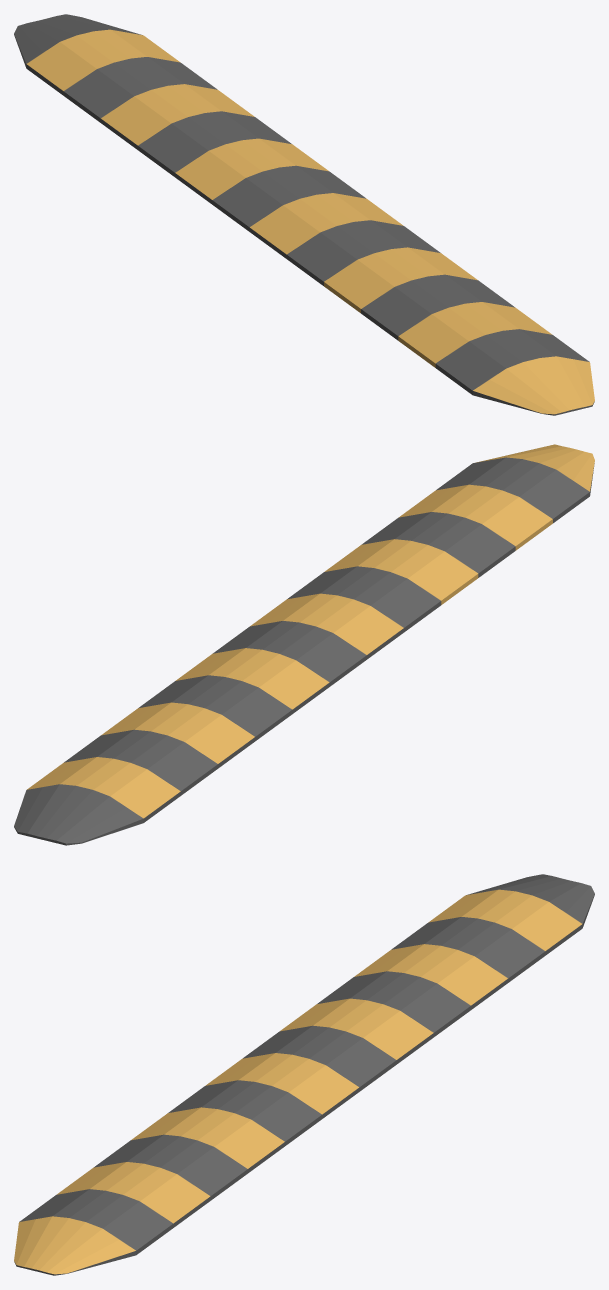
File: pruk2.fbx
3 renders of one model, top to bottom at view 1: azimuth 30°, elevation 25°; view 2: azimuth 150°, elevation 25°; view 3: azimuth 330°, elevation 25°, orthographic.
Parts seen in each view (by area): view 1: Cube; view 2: Cube; view 3: Cube.
Part boxes in pixels (x1,y1,x2,y2): Cube: [14, 14, 594, 415]; Cube: [14, 444, 594, 845]; Cube: [14, 874, 594, 1275].
Size of the model in its own units: 14.24 by 2.43 by 112.
